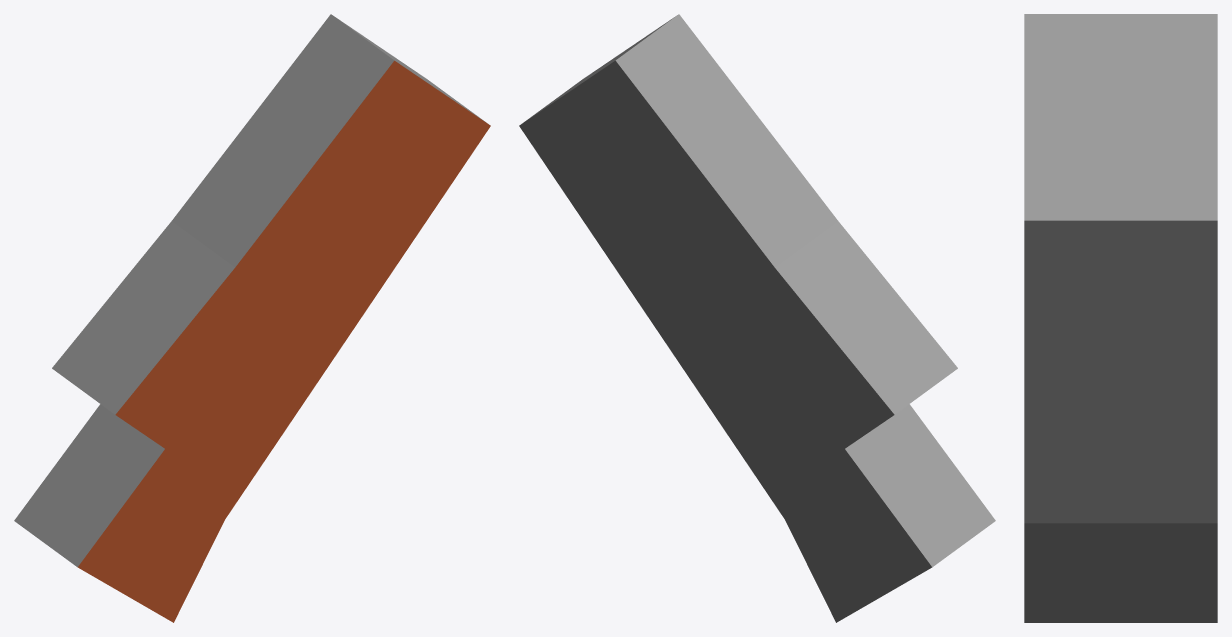
File: construction_6923_assumed_A_Casa_h6m.obj
The picture shows the model from 3 angles, left to right: view 1: azimuth 30°, elevation 25°; view 2: azimuth 150°, elevation 25°; view 3: azimuth 270°, elevation 25°; orthographic projection. The views are drawn at different scales.
Visible parts, largest first — view 1: construction_6923_assumed_A_Casa; view 2: construction_6923_assumed_A_Casa; view 3: construction_6923_assumed_A_Casa.
Boxes of the visible parts, x1,y1,x2,y2 form: construction_6923_assumed_A_Casa: (14, 14, 490, 622); construction_6923_assumed_A_Casa: (519, 14, 995, 622); construction_6923_assumed_A_Casa: (1024, 14, 1217, 622).
Bounding box in the file's own units: 22.52 × 26.48 × 6.
